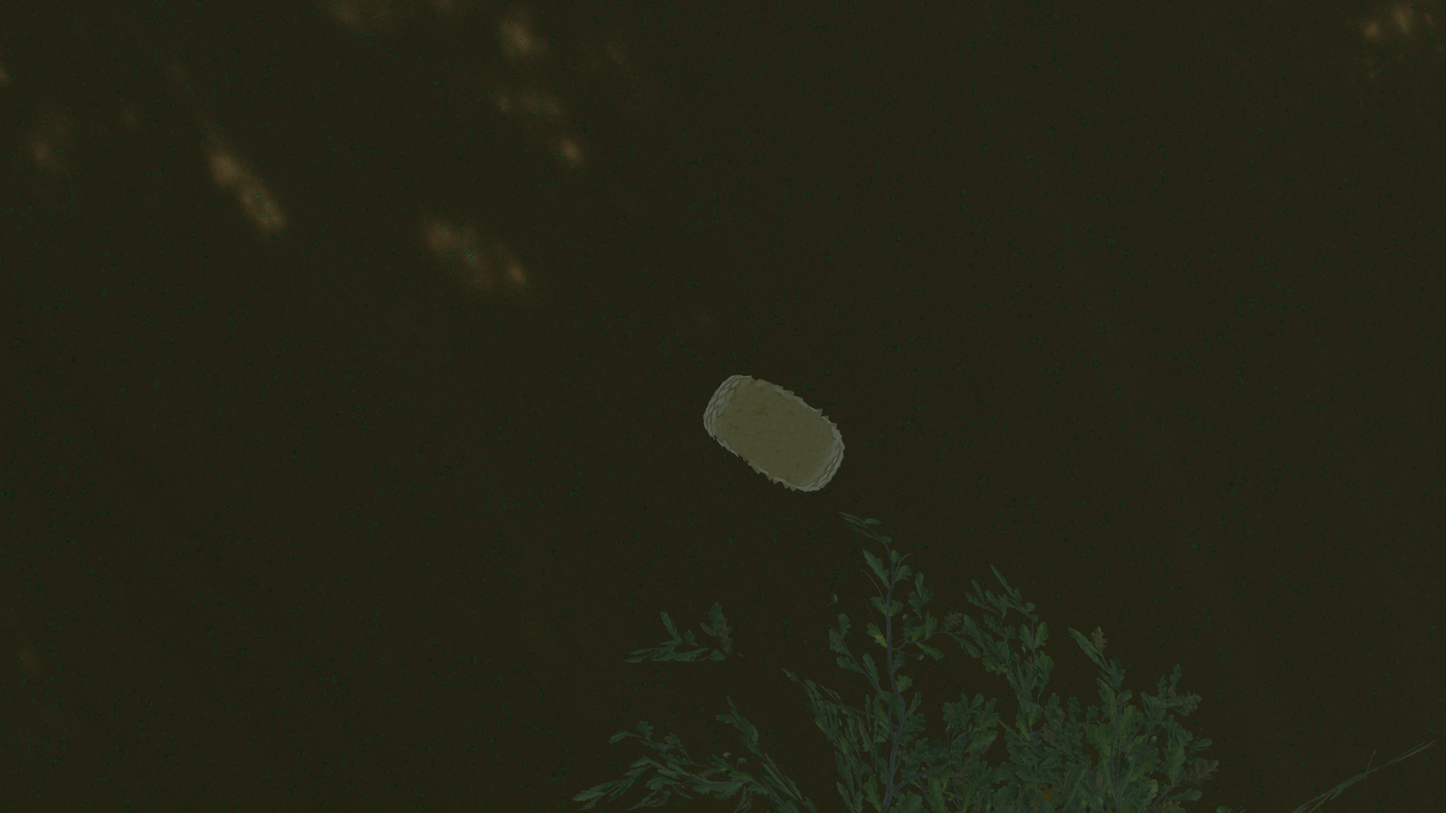pangolin: (664, 350, 947, 560)
